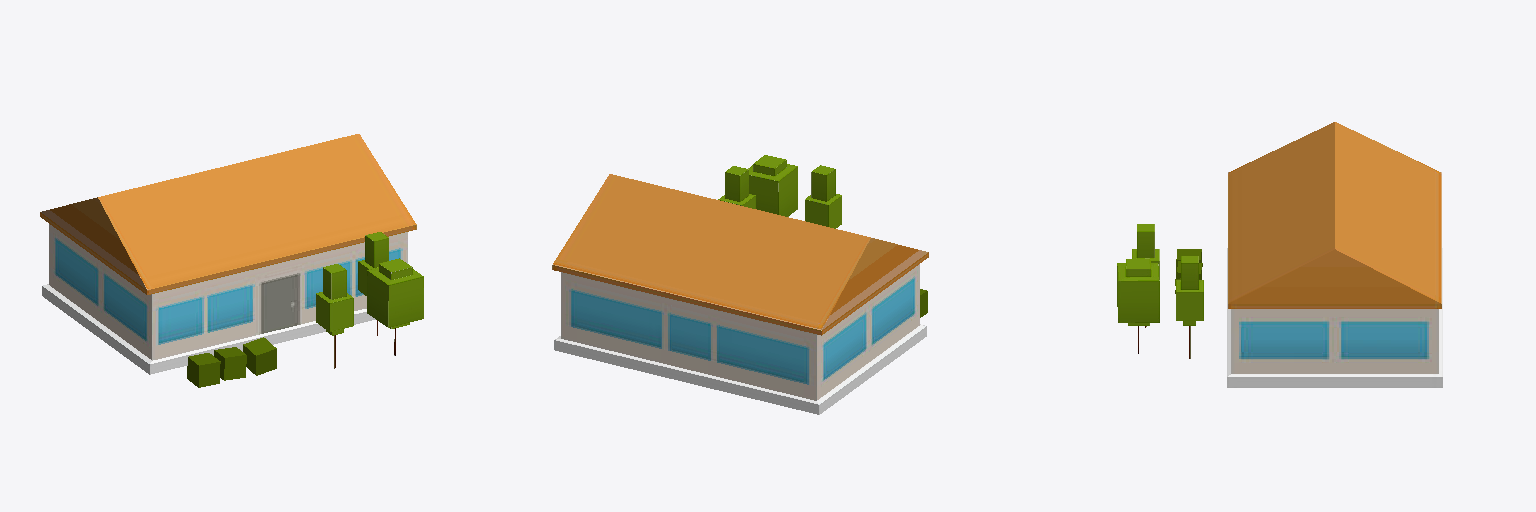
The picture shows the model from 3 angles: view 1: azimuth 30°, elevation 25°; view 2: azimuth 150°, elevation 25°; view 3: azimuth 270°, elevation 25°; orthographic projection.
Visible parts, largest first — view 1: living_yellow_1lvl_Mesh.145, Tree_3_499_2.003_Mesh.204, Tree_2_3_61.006_Mesh.203, Tree_2_3_61.005_Mesh.202, Cube_51.014_Mesh.207, Cube_51.004_Mesh.205, Cube_51.005_Mesh.206; view 2: living_yellow_1lvl_Mesh.145, Tree_3_499_2.003_Mesh.204, Tree_2_3_61.006_Mesh.203, Tree_2_3_61.005_Mesh.202; view 3: living_yellow_1lvl_Mesh.145, Tree_3_499_2.003_Mesh.204, Tree_2_3_61.005_Mesh.202, Tree_2_3_61.006_Mesh.203.
Part boxes in pixels (bbox=[...]): living_yellow_1lvl_Mesh.145: bbox=[40, 134, 416, 374]; Tree_3_499_2.003_Mesh.204: bbox=[367, 258, 423, 355]; Tree_2_3_61.006_Mesh.203: bbox=[316, 264, 353, 368]; Tree_2_3_61.005_Mesh.202: bbox=[358, 232, 388, 335]; Cube_51.014_Mesh.207: bbox=[243, 337, 276, 375]; Cube_51.004_Mesh.205: bbox=[187, 353, 220, 387]; Cube_51.005_Mesh.206: bbox=[214, 347, 246, 380]; living_yellow_1lvl_Mesh.145: bbox=[552, 174, 928, 414]; Tree_3_499_2.003_Mesh.204: bbox=[748, 155, 797, 216]; Tree_2_3_61.006_Mesh.203: bbox=[805, 165, 841, 228]; Tree_2_3_61.005_Mesh.202: bbox=[718, 166, 755, 208]; living_yellow_1lvl_Mesh.145: bbox=[1227, 122, 1442, 387]; Tree_3_499_2.003_Mesh.204: bbox=[1117, 258, 1159, 353]; Tree_2_3_61.005_Mesh.202: bbox=[1176, 256, 1203, 358]; Tree_2_3_61.006_Mesh.203: bbox=[1132, 224, 1159, 327].
Size of the model in its own units: 1.77 by 0.8872 by 1.85.
4 materials, 3 textured.